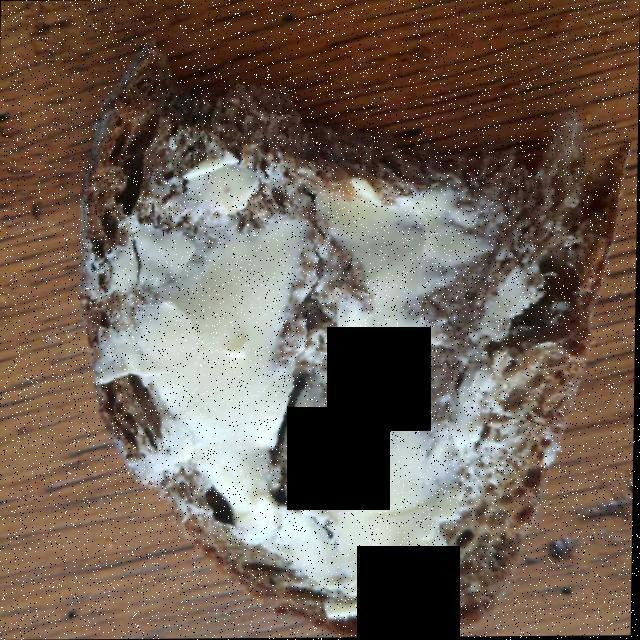bread: (82, 62, 616, 618)
butter: (91, 122, 550, 627)
